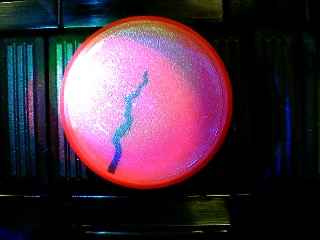CRACK: (58, 15, 233, 189)
